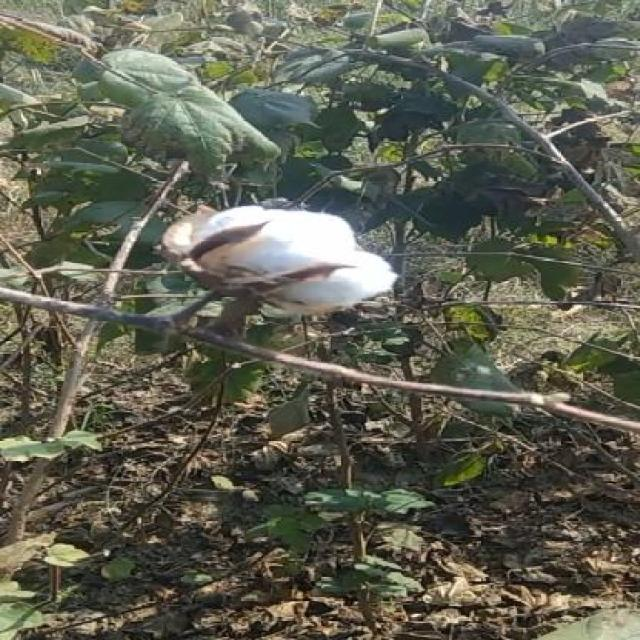cotton_ready: (161, 198, 414, 360)
